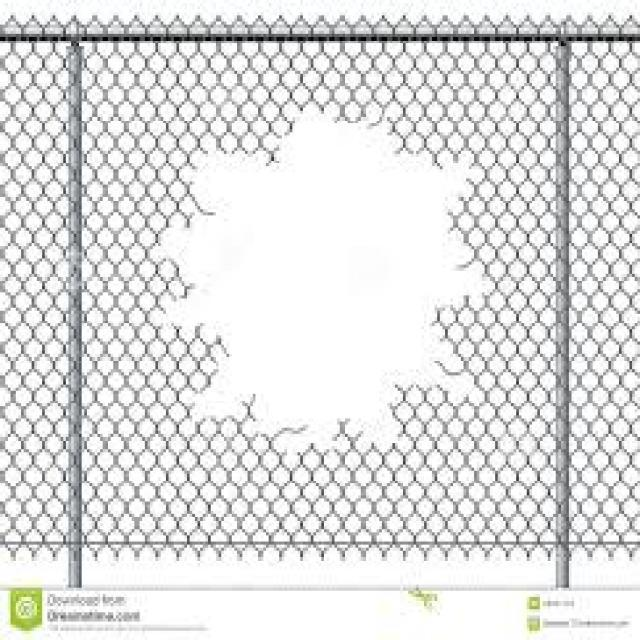fence line: (150, 100, 495, 454)
